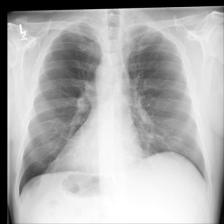normal: (15, 20, 211, 204)
